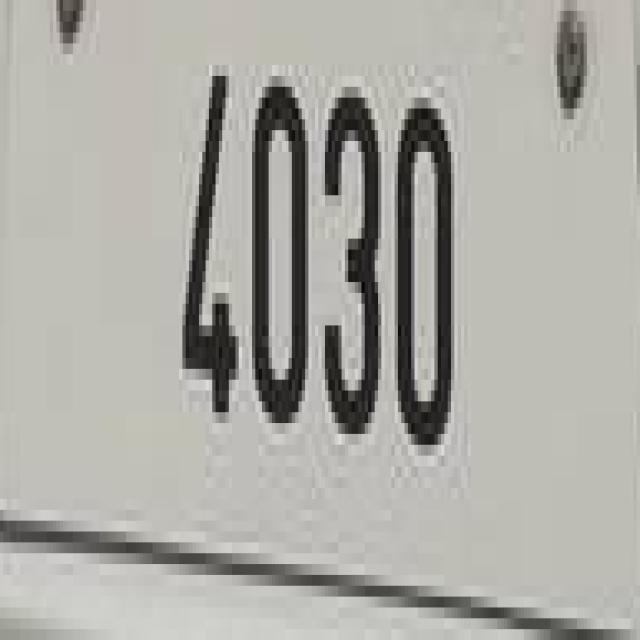license_plate: (3, 0, 596, 618)
